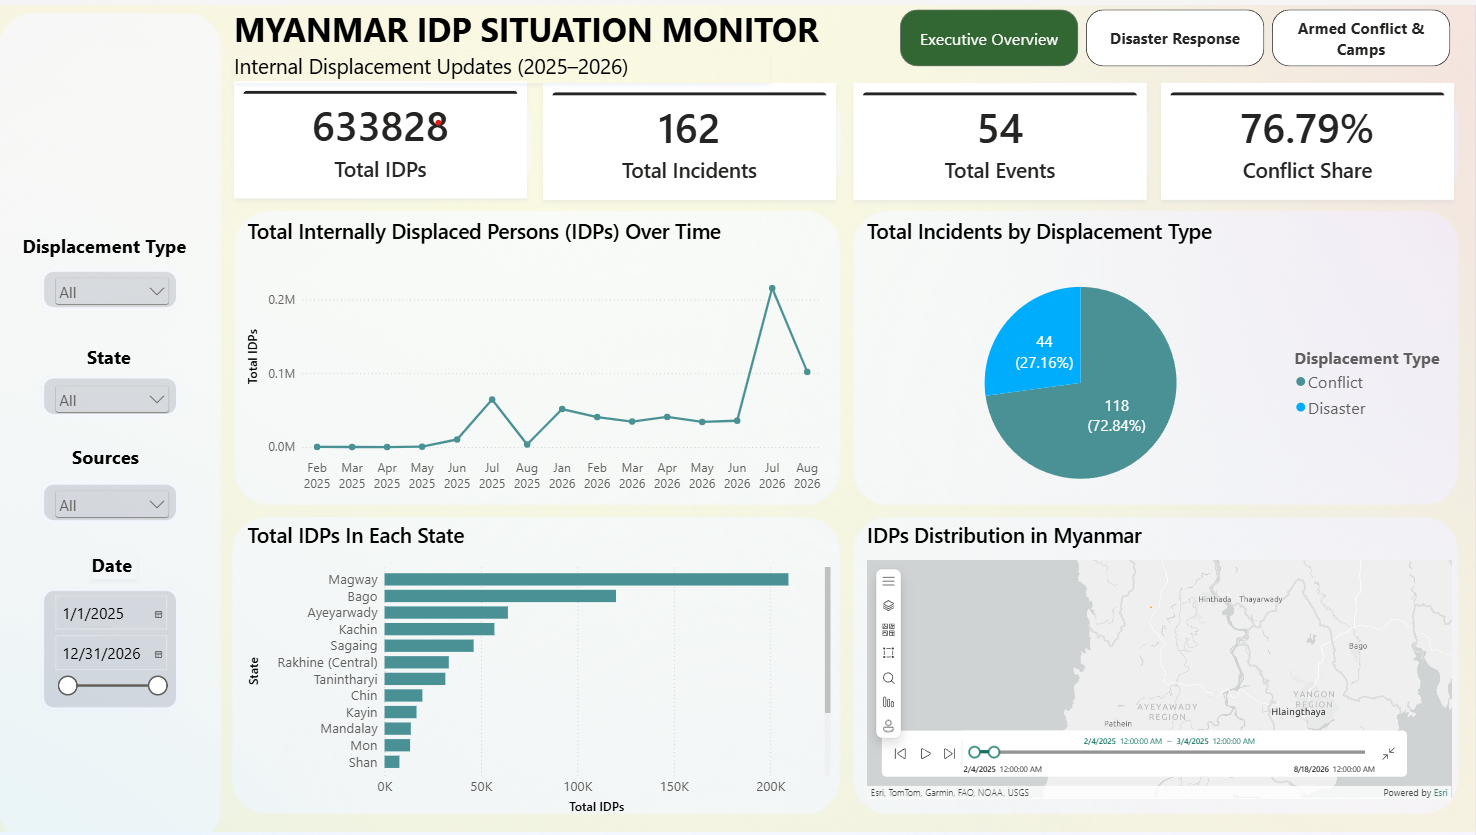

What the dashboard file says about the page in this screenshot:
{"tool":"powerbi","page":{"name":"Executive Overview","canvas":[1920,1080],"ordinal":0},"visuals":[{"type":"cardVisual","fields":{"Data":["measure_table.Total Displacements"]},"box":[304.4,99.9,381.6,152.2],"z":0},{"type":"cardVisual","fields":{"Data":["measure_table.Conflict Share"]},"box":[1510.4,102.2,381.6,152.2],"z":1000},{"type":"cardVisual","fields":{"Data":["measure_table.Total Events"]},"box":[1110.7,102.2,381.6,152.2],"z":2000},{"type":"cardVisual","fields":{"Data":["measure_table.Total Incidents"]},"box":[706.4,102.2,381.6,152.2],"z":3000},{"type":"lineChart","title":"Total Internally Displaced Persons (IDPs) Over Time","fields":{"Category":["dim_date.Year","dim_date.Month Year","dim_date.Date"],"Y":["measure_table.Total Displacements"]},"box":[322.5,274.8,749.5,361.1],"z":4000},{"type":"barChart","title":"Total IDPs In Each State","fields":{"Category":["fct_displacements.state"],"Y":["measure_table.Total Displacements"]},"box":[322.5,672.3,758.6,381.6],"z":5000},{"type":"esriVisual","title":"IDPs Distribution in Myanmar","fields":{"Latitude":["fct_displacements.latitude"],"Location":["fct_displacements.locations_name"],"Longitude":["fct_displacements.longitude"],"Size":["measure_table.Total Displacements"],"Time":["dim_date.Date"]},"box":[1128.8,672.3,760.9,361.1],"z":6000},{"type":"pieChart","title":"Total Incidents by Displacement Type","fields":{"Category":["fct_displacements.displacement_type"],"Y":["measure_table.Total Incidents"]},"box":[1128.8,274.8,760.9,381.6],"z":7000},{"type":"slicer","fields":{"Values":["dim_date.Date"]},"box":[63.6,763.2,156.7,145.4],"z":7001},{"type":"textbox","box":[118.1,713.2,59.1,34.1],"z":7002},{"type":"slicer","fields":{"Values":["dim_events.subtype"]},"box":[65.9,349.8,159,47.7],"z":7003},{"type":"textbox","box":[113.6,440.6,59.1,34.1],"z":7004},{"type":"slicer","fields":{"Values":["dim_events.state"]},"box":[65.9,490.6,159,50],"z":7005},{"type":"textbox","box":[29.5,297.5,233.9,34.1],"z":7006},{"type":"slicer","fields":{"Values":["dim_events.sources"]},"box":[66.2,625.7,159,47.7],"z":7007},{"type":"textbox","box":[93.1,572.4,106.8,34.1],"z":7008},{"type":"textbox","box":[304.4,61.3,697.3,40.9],"z":7009},{"type":"textbox","box":[304.4,2.3,776.8,59.1],"z":7010},{"type":"pageNavigator","box":[1172,6.8,717.7,75],"z":7011}]}

Visuals, with their boxes in screenshot pixels (x1, y1, x2, y2), scaled from the page's 1920x1080 canvas onto the 1476x835 screenshot:
cardVisual - measure_table.Total Displacements: left=234, top=77, right=527, bottom=195
cardVisual - measure_table.Conflict Share: left=1161, top=79, right=1454, bottom=197
cardVisual - measure_table.Total Events: left=854, top=79, right=1147, bottom=197
cardVisual - measure_table.Total Incidents: left=543, top=79, right=836, bottom=197
"Total Internally Displaced Persons (IDPs) Over Time" lineChart: left=248, top=212, right=824, bottom=492
"Total IDPs In Each State" barChart: left=248, top=520, right=831, bottom=815
"IDPs Distribution in Myanmar" esriVisual: left=868, top=520, right=1453, bottom=799
"Total Incidents by Displacement Type" pieChart: left=868, top=212, right=1453, bottom=507
slicer - dim_date.Date: left=49, top=590, right=169, bottom=702
textbox: left=91, top=551, right=136, bottom=578
slicer - dim_events.subtype: left=51, top=270, right=173, bottom=307
textbox: left=87, top=341, right=133, bottom=367
slicer - dim_events.state: left=51, top=379, right=173, bottom=418
textbox: left=23, top=230, right=202, bottom=256
slicer - dim_events.sources: left=51, top=484, right=173, bottom=521
textbox: left=72, top=443, right=154, bottom=469
textbox: left=234, top=47, right=770, bottom=79
textbox: left=234, top=2, right=831, bottom=47
pageNavigator: left=901, top=5, right=1453, bottom=63
